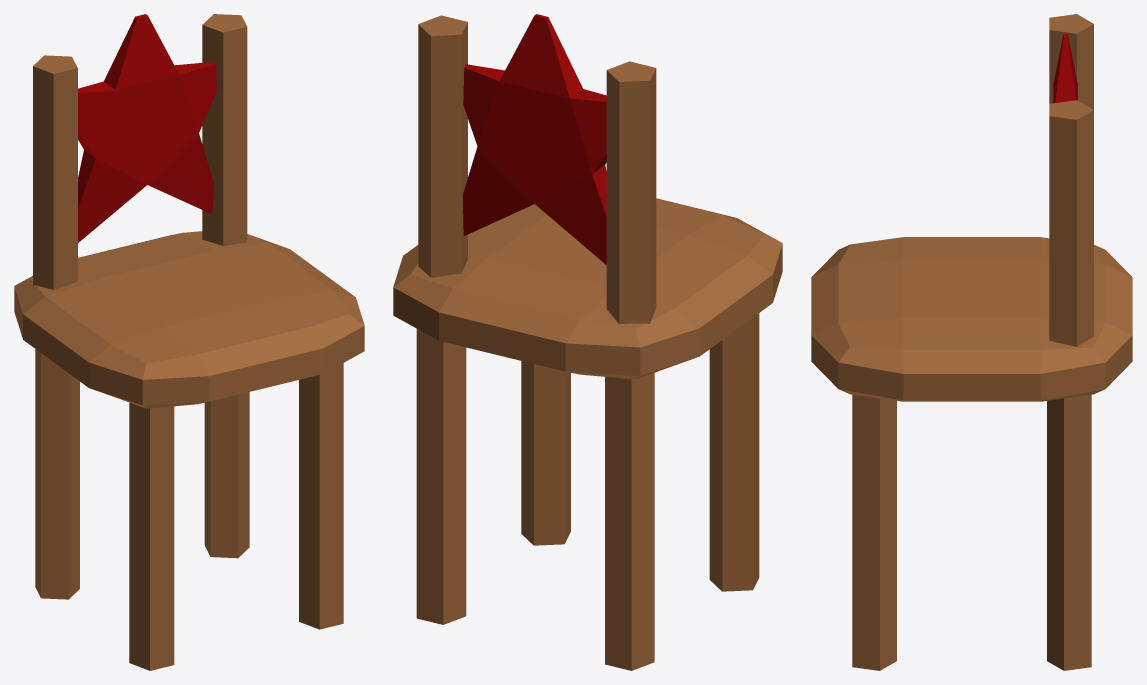
File: CADEIRARED.fbx
The picture shows the model from 3 angles, left to right: view 1: azimuth 30°, elevation 25°; view 2: azimuth 150°, elevation 25°; view 3: azimuth 270°, elevation 25°; orthographic projection. The views are drawn at different scales.
Visible parts, largest first — view 1: Cylinder; view 2: Cylinder; view 3: Cylinder.
Part boxes in pixels (x1,y1,x2,y2): Cylinder: (14, 14, 364, 670); Cylinder: (393, 14, 782, 670); Cylinder: (811, 14, 1132, 670).
Bounding box in the file's own units: 306 × 611 × 306.
